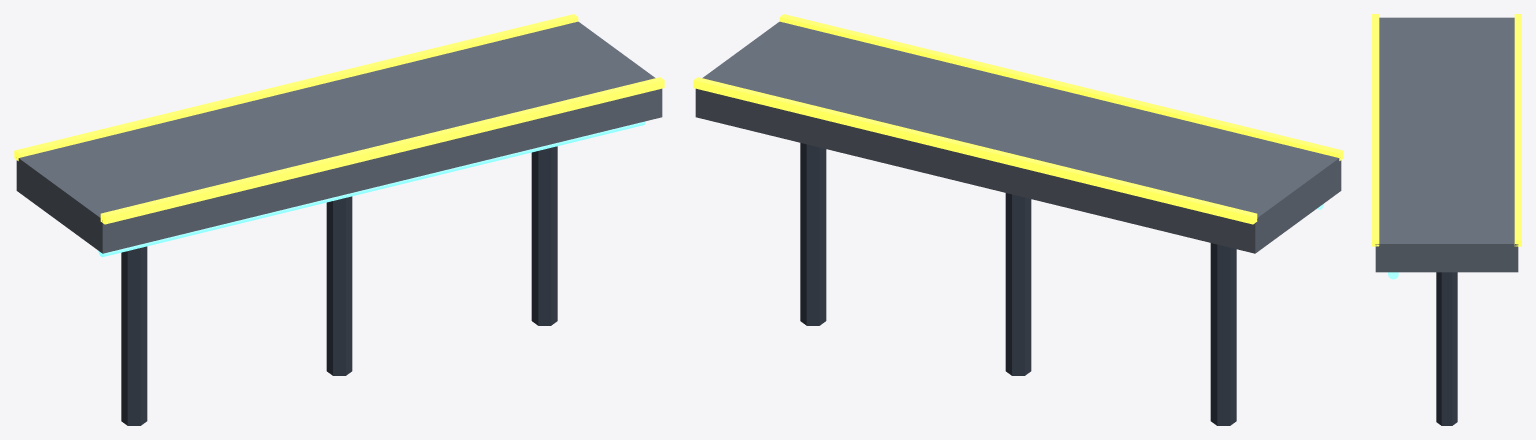
The model's file is level_modular_gantry.glb.
3 views of the same model, side by side, from view 1: azimuth 30°, elevation 25°; view 2: azimuth 150°, elevation 25°; view 3: azimuth 270°, elevation 25° (orthographic). The views are drawn at different scales.
Visible parts, largest first — view 1: Gantry_Platform_Mesh, Gantry_Hazard_Edge_-0.8, Gantry_Hazard_Edge_0.8, Gantry_Leg_-2.2, Gantry_Leg_0.0, Gantry_Leg_2.2, Gantry_Conduit; view 2: Gantry_Platform_Mesh, Gantry_Hazard_Edge_0.8, Gantry_Hazard_Edge_-0.8, Gantry_Leg_-2.2, Gantry_Leg_0.0, Gantry_Leg_2.2; view 3: Gantry_Platform_Mesh, Gantry_Leg_2.2, Gantry_Hazard_Edge_0.8, Gantry_Hazard_Edge_-0.8.
Part boxes in pixels (x1=…): Gantry_Platform_Mesh: x1=16, y1=21, x2=662, y2=253; Gantry_Hazard_Edge_-0.8: x1=100, y1=77, x2=664, y2=224; Gantry_Hazard_Edge_0.8: x1=14, y1=14, x2=578, y2=160; Gantry_Leg_-2.2: x1=121, y1=246, x2=147, y2=425; Gantry_Leg_0.0: x1=326, y1=196, x2=352, y2=375; Gantry_Leg_2.2: x1=531, y1=146, x2=557, y2=325; Gantry_Conduit: x1=98, y1=121, x2=645, y2=257; Gantry_Platform_Mesh: x1=695, y1=21, x2=1341, y2=253; Gantry_Hazard_Edge_0.8: x1=693, y1=77, x2=1257, y2=224; Gantry_Hazard_Edge_-0.8: x1=779, y1=14, x2=1343, y2=160; Gantry_Leg_-2.2: x1=1210, y1=243, x2=1236, y2=425; Gantry_Leg_0.0: x1=1005, y1=193, x2=1031, y2=375; Gantry_Leg_2.2: x1=800, y1=143, x2=826, y2=325; Gantry_Platform_Mesh: x1=1375, y1=17, x2=1518, y2=272; Gantry_Leg_2.2: x1=1436, y1=272, x2=1457, y2=425; Gantry_Hazard_Edge_0.8: x1=1514, y1=14, x2=1521, y2=246; Gantry_Hazard_Edge_-0.8: x1=1372, y1=14, x2=1379, y2=246.
Bounding box in the file's own units: 6 × 2.62 × 1.68.
